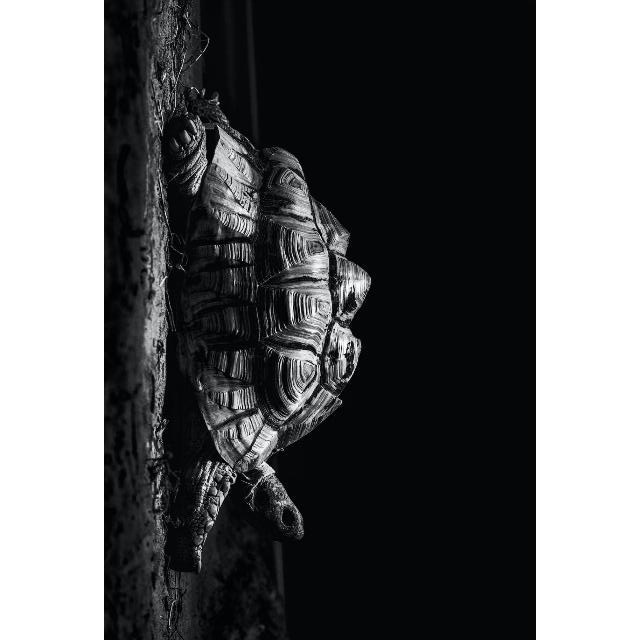turtle: (159, 87, 373, 574)
